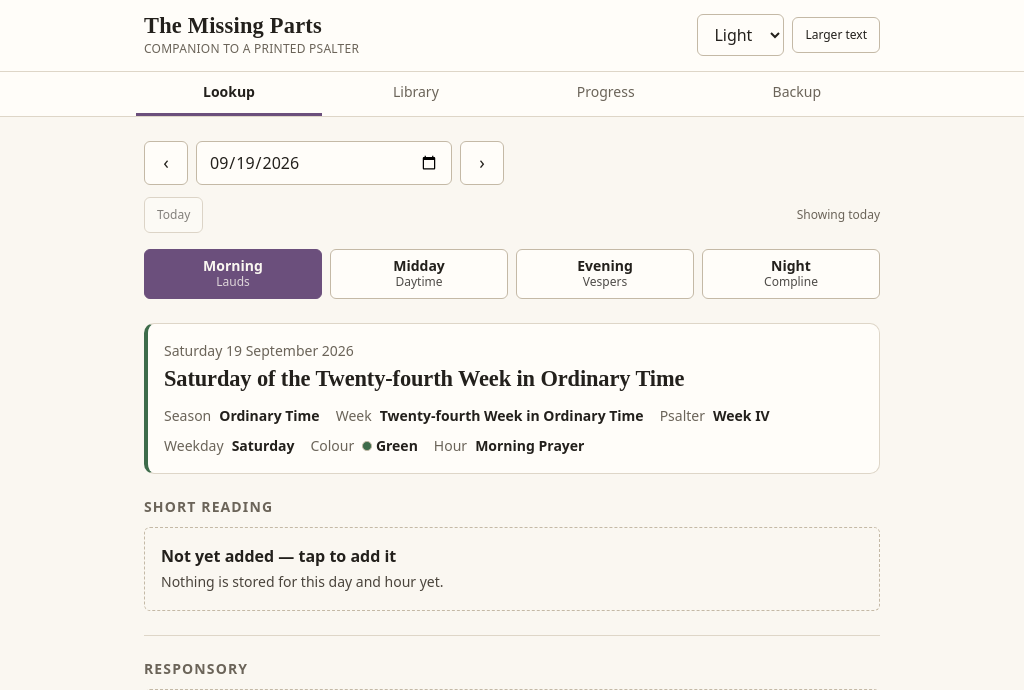
the lookup screen › shows the resolved liturgical day for a date
Type "2026-01-12" into the date field named "Date". click: (324, 163)
box: left=196, top=141, right=452, bottom=185
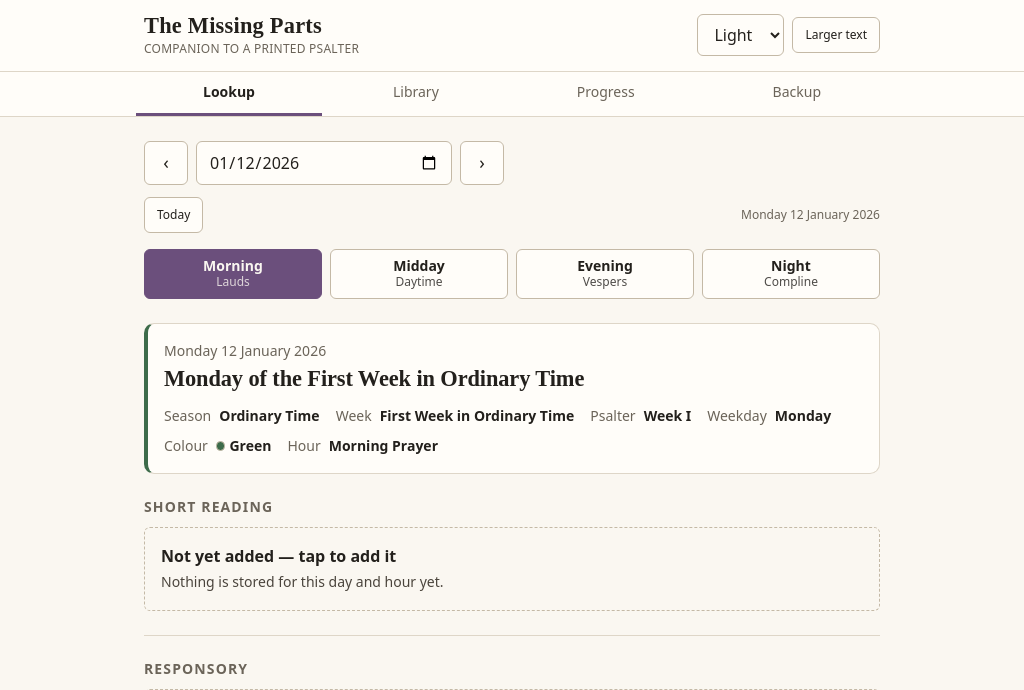
Expected: the text "Ordinary Time" is shown, left=219, top=405, right=320, bottom=427
Expected: the heading "Monday of the First Week in Ordinary Time" is shown, left=164, top=366, right=584, bottom=391
Expected: the text "Monday" is shown, left=775, top=405, right=831, bottom=427
